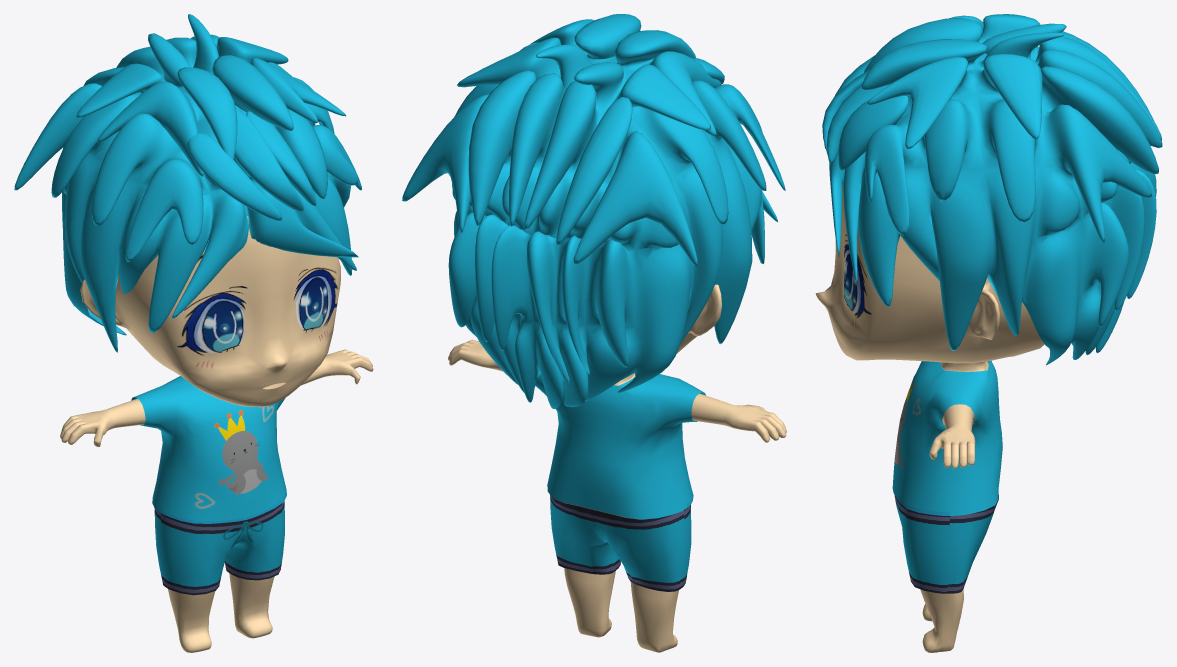
Rendered from Character.FBX.
3 renders of one model, left to right at view 1: azimuth 30°, elevation 25°; view 2: azimuth 150°, elevation 25°; view 3: azimuth 270°, elevation 25°, orthographic. The views are drawn at different scales.
Visible parts, largest first — view 1: body; view 2: body; view 3: body.
Boxes of the visible parts, left/top/right/bottom form: body: left=14, top=14, right=373, bottom=652; body: left=402, top=14, right=786, bottom=652; body: left=815, top=14, right=1162, bottom=652.
Bounding box in the file's own units: 7679 × 13642 × 7022.
